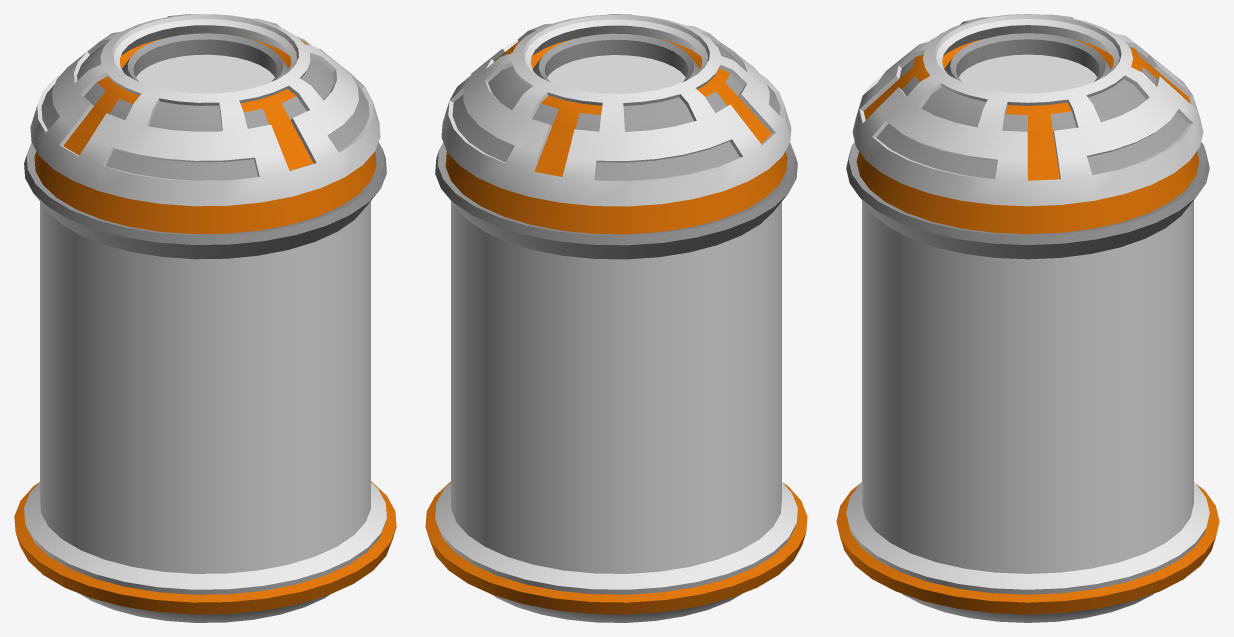
File: MediumEnemy.fbx
3 views of the same model, side by side, from view 1: azimuth 30°, elevation 25°; view 2: azimuth 150°, elevation 25°; view 3: azimuth 270°, elevation 25° (orthographic).
Visible parts, largest first — view 1: MediumCylinder; view 2: MediumCylinder; view 3: MediumCylinder.
Boxes of the visible parts, left/top/right/bottom form: MediumCylinder: left=14, top=14, right=396, bottom=622; MediumCylinder: left=425, top=14, right=807, bottom=622; MediumCylinder: left=836, top=14, right=1219, bottom=622.
Bounding box in the file's own units: 16.18 × 23.92 × 16.18.
